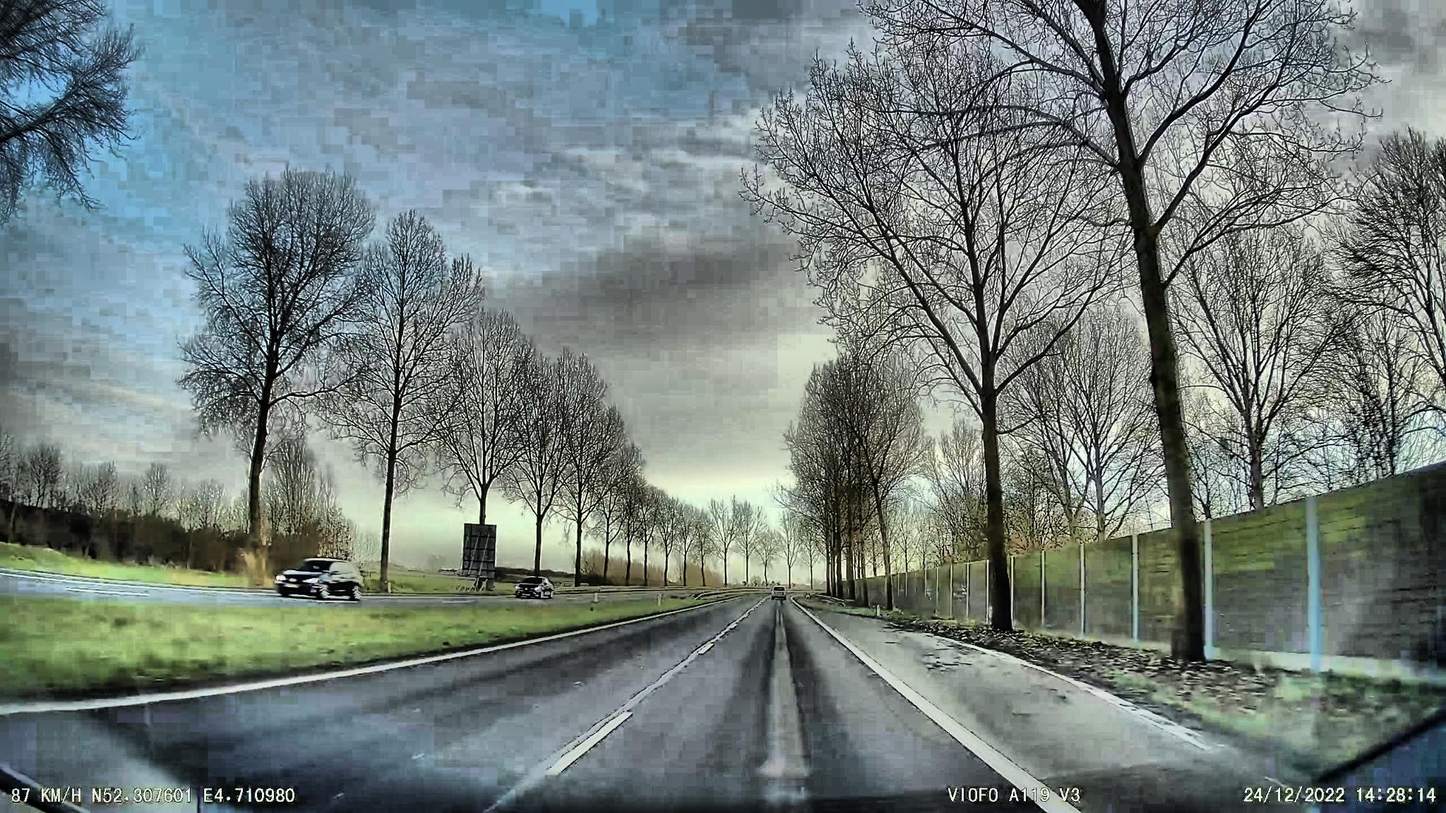Roads: (0, 597, 1266, 813)
